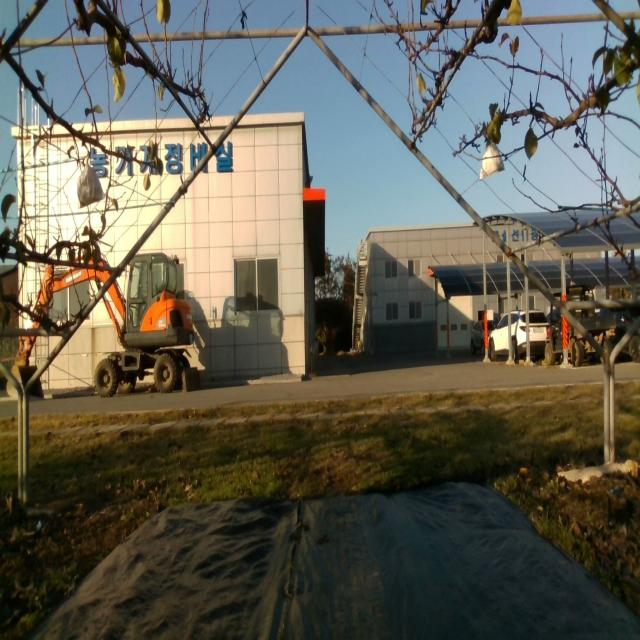pearbags: (75, 156, 104, 210), (478, 142, 503, 184)
